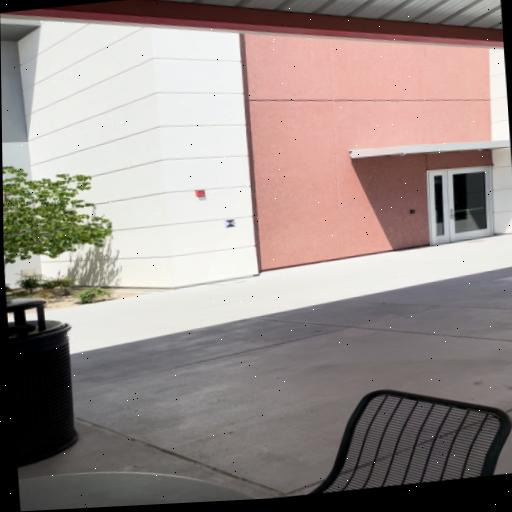target6: (225, 219, 236, 228)
